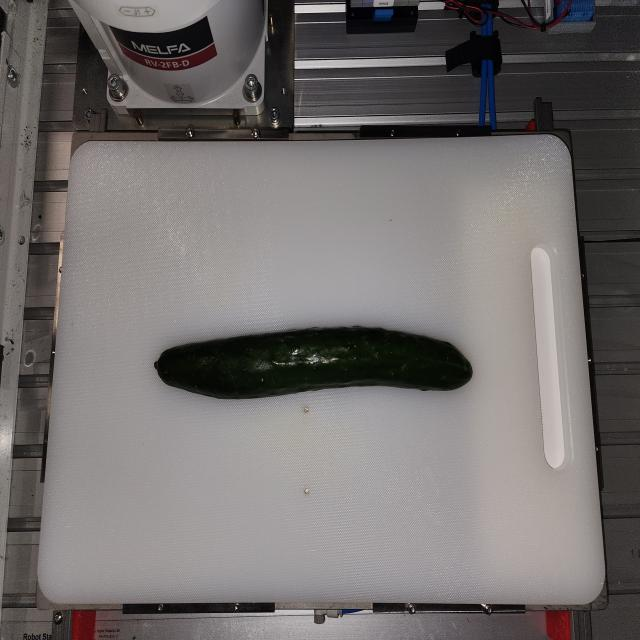cucumber: (154, 324, 474, 400)
